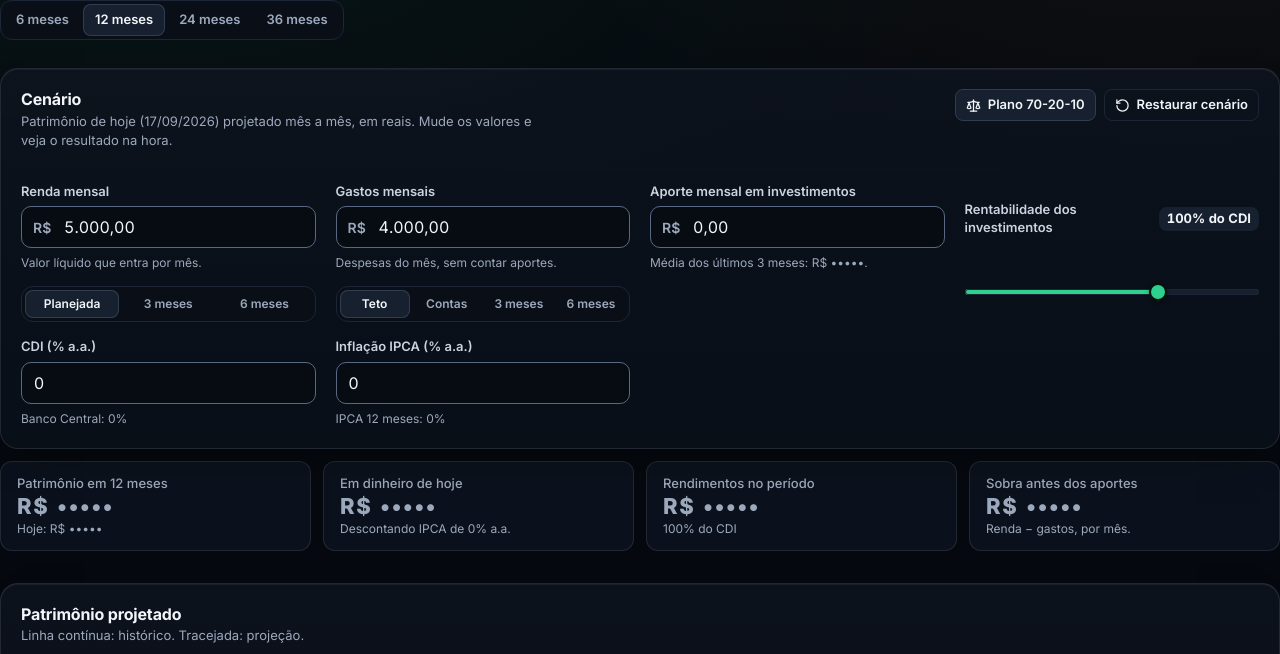
Scenario: ProjectionsPage › oculta valores nas dicas e no aviso no modo privacidade
Expected: the text "Hoje: R$ •••••" is shown, [17,521,102,536]
Replace the text in the field labelled "Renda mensal" with "1.000,00" at (168, 227), box [21,206,316,248]
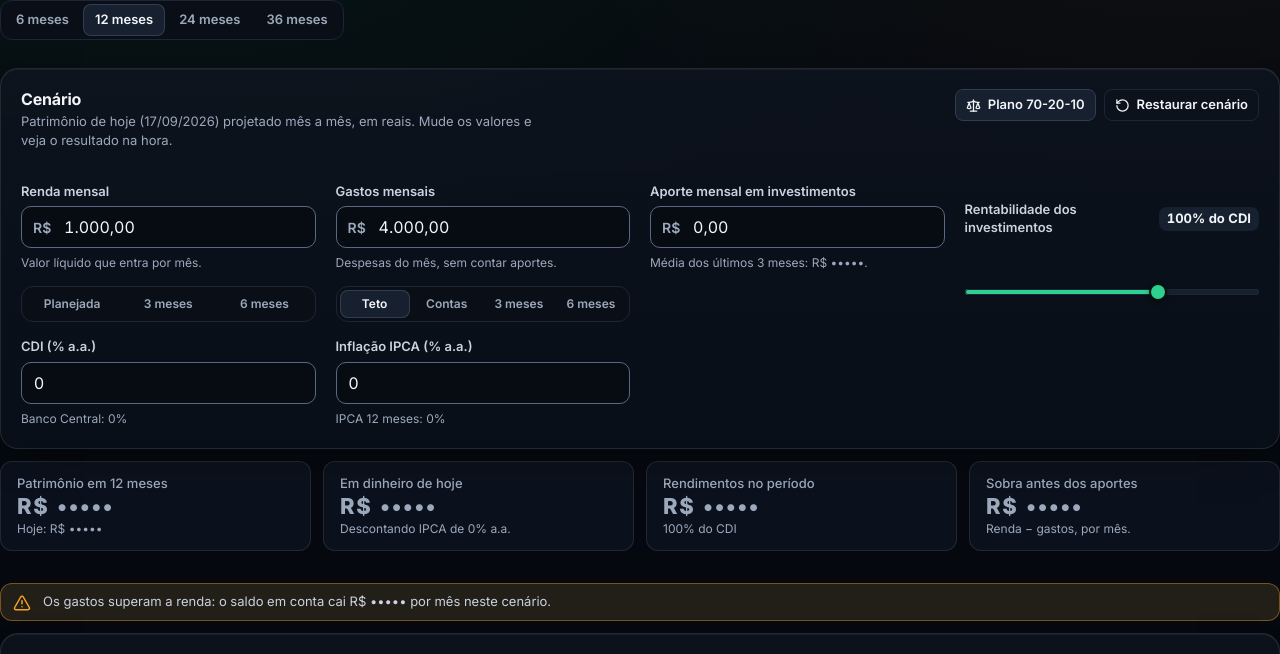
Now the text "Os gastos superam a renda" reads "Os gastos superam a renda: o saldo em conta cai R$ ••••• por mês neste cenário.", box [43,592,563,611]
